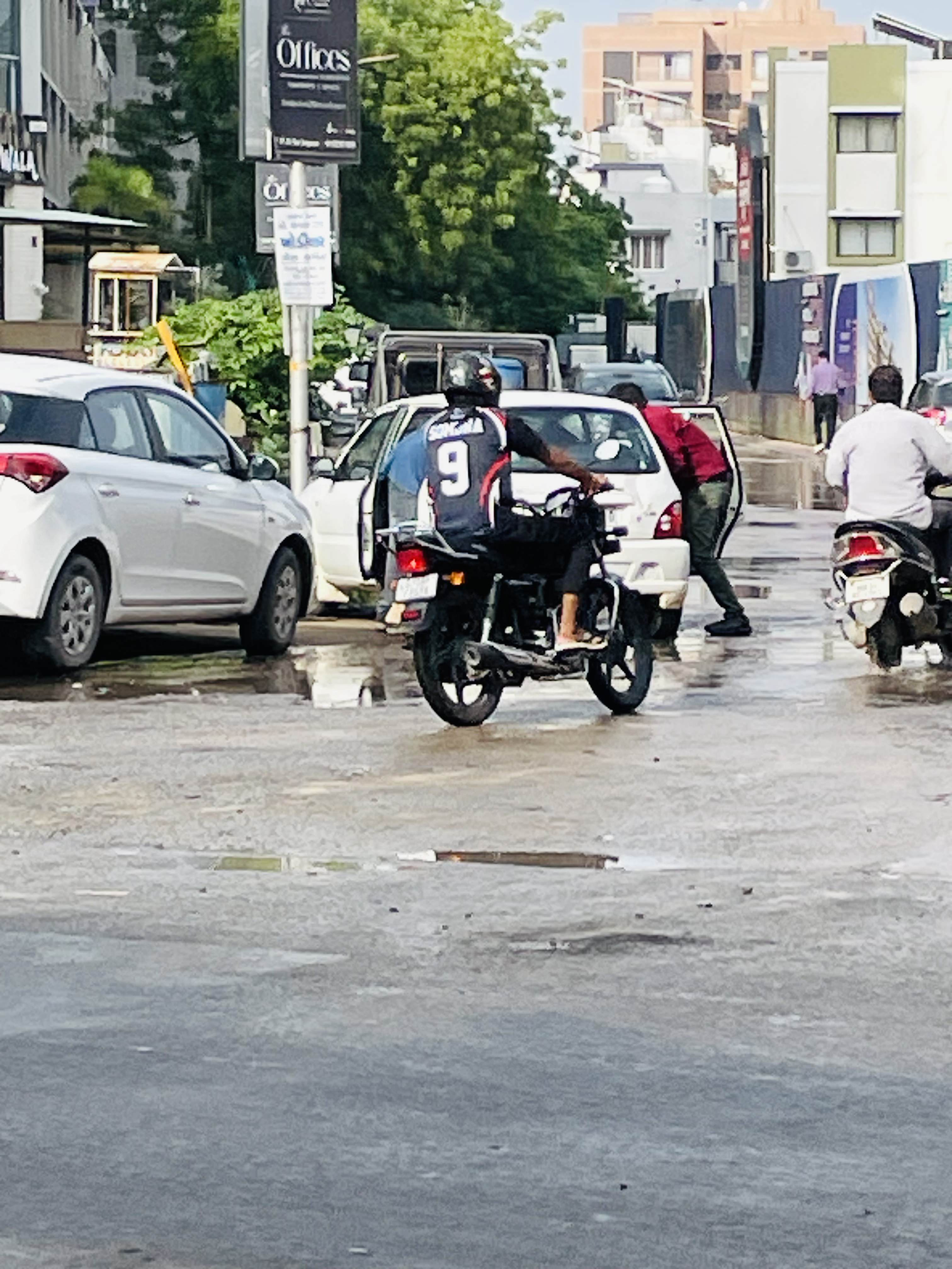BikeWithRider: (351, 343, 671, 736), (811, 352, 952, 681)
Helmet: (432, 345, 509, 416)
NoHelmet: (860, 357, 912, 417)
